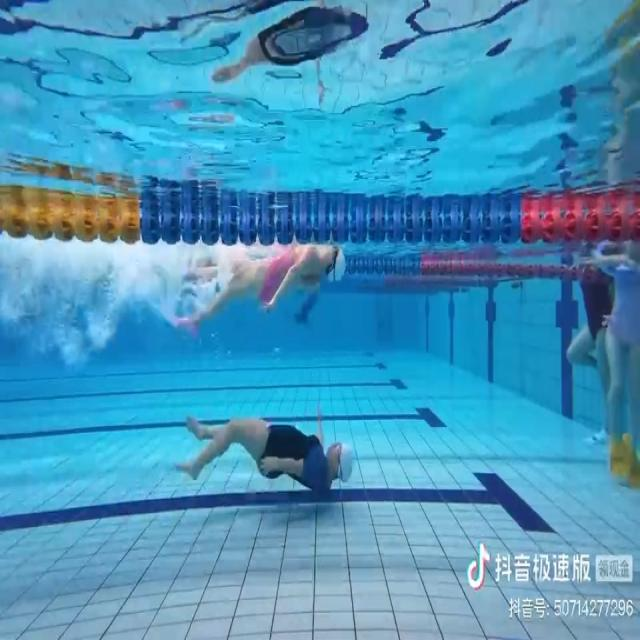Swimming: (174, 243, 348, 329), (176, 408, 354, 492)
